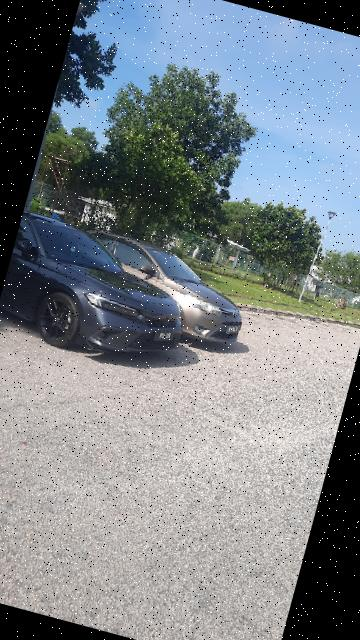License_Plate: (152, 326, 179, 347), (227, 324, 242, 339)
car: (1, 206, 278, 399)
